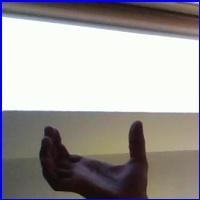space: (26, 118, 163, 196)
